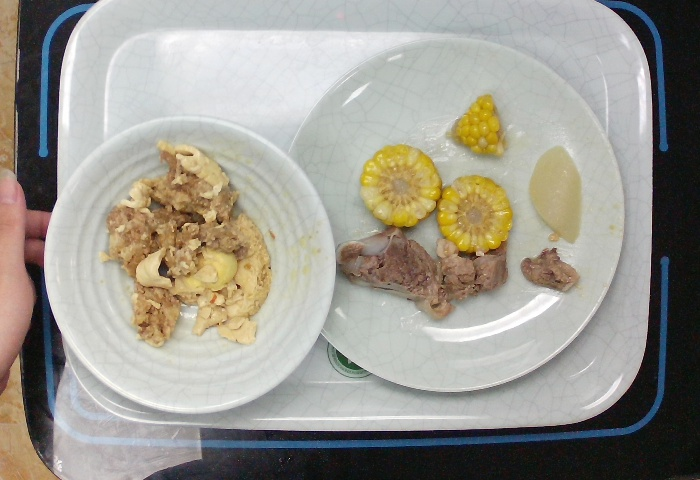JYsf-Da_Yuan_Pan: (276, 36, 628, 392)
JYsf-Xiao_Tang_Wan: (52, 120, 331, 416)
